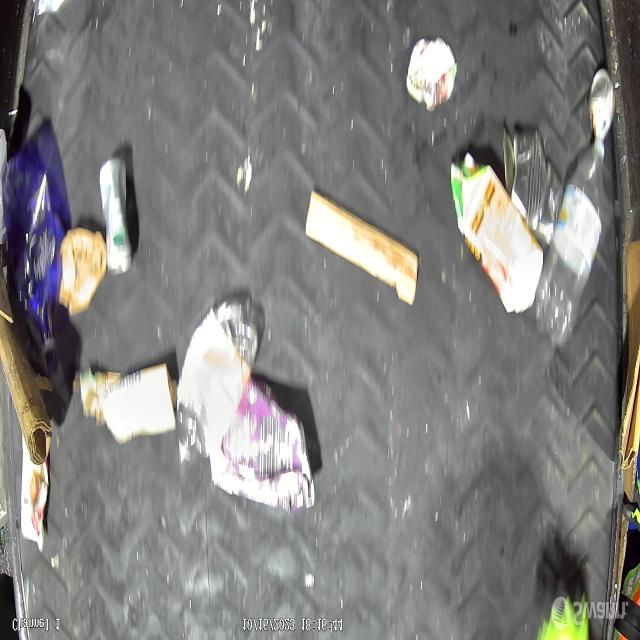can: (501, 125, 563, 248), (100, 157, 132, 277), (589, 68, 615, 138)
non_white_jug: (450, 155, 543, 314)
plastic_bottle: (535, 138, 609, 345), (175, 302, 259, 466), (2, 152, 61, 377)
